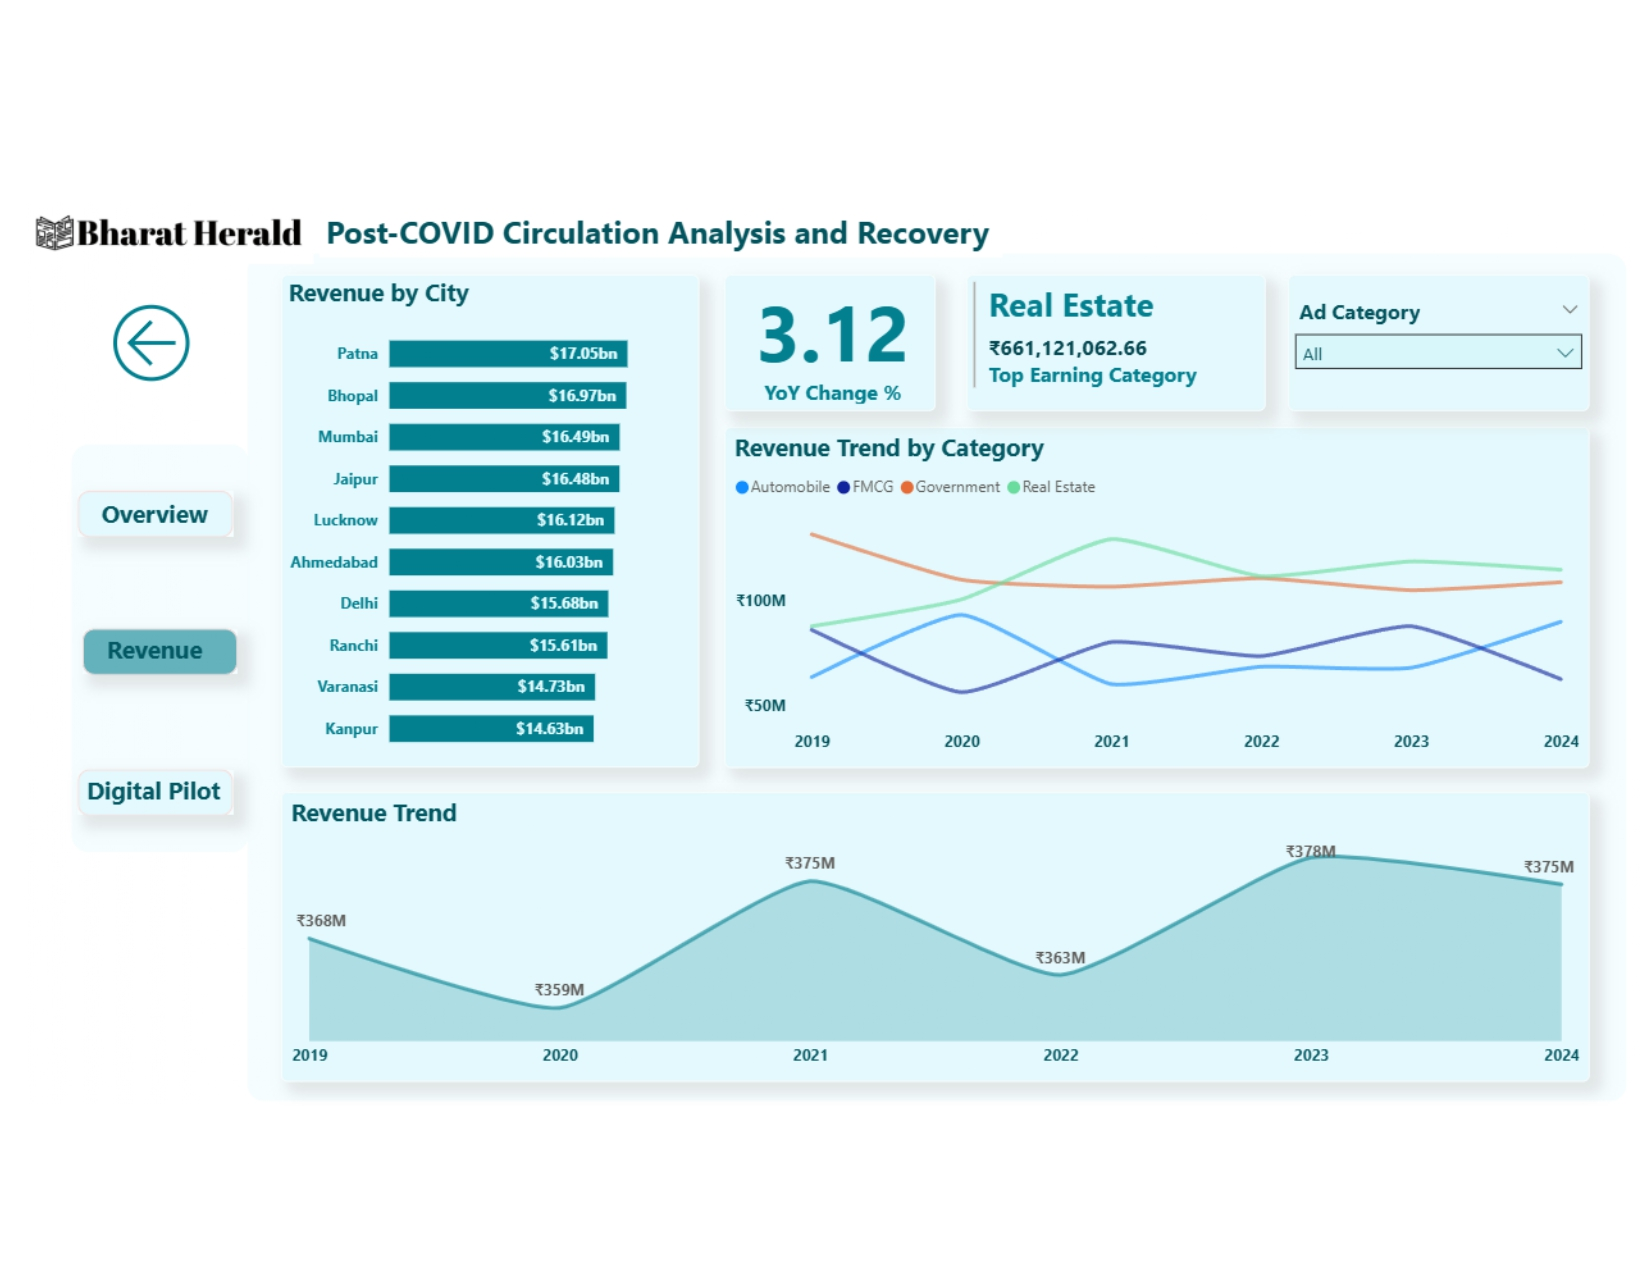

The page's visual inventory and layout, read from the dashboard file:
{"tool":"powerbi","page":{"name":"Revenue","canvas":[1280,720],"ordinal":1},"visuals":[{"type":"group","id":"g1","title":"Group 1","box":[41.2,50,1214.6,661.7],"z":0},{"type":"shape","box":[41.2,198.9,138.5,318.6],"z":0,"group":"g1"},{"type":"shape","box":[179.2,50,1076.7,661.7],"z":1000,"group":"g1"},{"type":"shape","box":[46.8,452,121.2,36.4],"z":1000},{"type":"lineChart","title":"Revenue Trend","fields":{"Category":["bharat_herald vw_ad_revenue_by_category.year"],"Y":["Sum(bharat_herald vw_ad_revenue_by_category.total_revenue)"]},"box":[205,470,1021.7,226.7],"z":2000},{"type":"textbox","box":[43.3,451.7,123.3,36.7],"z":3000},{"type":"clusteredBarChart","title":"Revenue by City","fields":{"Category":["bharat_herald vw_city_level_revenue_performance.city"],"Y":["Sum(bharat_herald vw_city_level_revenue_performance.total_revenue)"]},"box":[205,66.7,326.7,385],"z":4000},{"type":"shape","box":[46.8,235.5,121.2,36.4],"z":5000},{"type":"textbox","box":[50.8,235,110,36.7],"z":6000},{"type":"shape","box":[50.2,342.9,121,36.4],"z":7000},{"type":"textbox","box":[51.2,341.2,112.5,37.5],"z":8000},{"type":"lineChart","title":"Revenue Trend by Category","fields":{"Series":["bharat_herald vw_ad_revenue_by_category.ad_category"],"Category":["bharat_herald vw_ad_revenue_by_category.year"],"Y":["Sum(bharat_herald vw_ad_revenue_by_category.total_revenue)"]},"box":[551.7,185,675,266.7],"z":9000},{"type":"card","fields":{"Values":["Avg(bharat_herald vw_ad_revenue_by_category.pct_yoy_change)"]},"box":[551.7,66.7,165,106.7],"z":10000},{"type":"multiRowCard","fields":{"Values":["bharat_herald vw_ad_revenue_by_category.ad_category","Sum(bharat_herald vw_ad_revenue_by_category.total_revenue)"]},"box":[740,66.7,233.3,106.7],"z":11000},{"type":"actionButton","box":[66.7,81.7,75,76.7],"z":12000},{"type":"actionButton","box":[58.8,343.8,105,31.2],"z":14000},{"type":"slicer","fields":{"Values":["bharat_herald vw_ad_revenue_by_category.ad_category"]},"box":[991.7,66.7,235,106.7],"z":15000},{"type":"image","box":[0,1.7,235,61.7],"z":16000},{"type":"actionButton","box":[63.3,456.7,95,25],"z":17000},{"type":"actionButton","box":[56.7,238.3,95,31.7],"z":18000},{"type":"textbox","box":[235,11.2,596.2,42.5],"z":19000}]}

Visuals, with their boxes on the page's 1280x720 design canvas (x1, y1, x2, y2). These are canvas units, not pixel positions in the 1650x1275 screenshot, which may show the page scaled, cropped or inside an application window:
"Group 1" group: 41, 50, 1256, 712
shape: 41, 199, 180, 518
shape: 179, 50, 1256, 712
shape: 47, 452, 168, 488
"Revenue Trend" lineChart: 205, 470, 1227, 697
textbox: 43, 452, 167, 488
"Revenue by City" clusteredBarChart: 205, 67, 532, 452
shape: 47, 236, 168, 272
textbox: 51, 235, 161, 272
shape: 50, 343, 171, 379
textbox: 51, 341, 164, 379
"Revenue Trend by Category" lineChart: 552, 185, 1227, 452
card - Avg(bharat_herald vw_ad_revenue_by_category.pct_yoy_change): 552, 67, 717, 173
multiRowCard - bharat_herald vw_ad_revenue_by_category.ad_category x Sum(bharat_herald vw_ad_revenue_by_category.total_revenue): 740, 67, 973, 173
actionButton: 67, 82, 142, 158
actionButton: 59, 344, 164, 375
slicer - bharat_herald vw_ad_revenue_by_category.ad_category: 992, 67, 1227, 173
image: 0, 2, 235, 63
actionButton: 63, 457, 158, 482
actionButton: 57, 238, 152, 270
textbox: 235, 11, 831, 54
